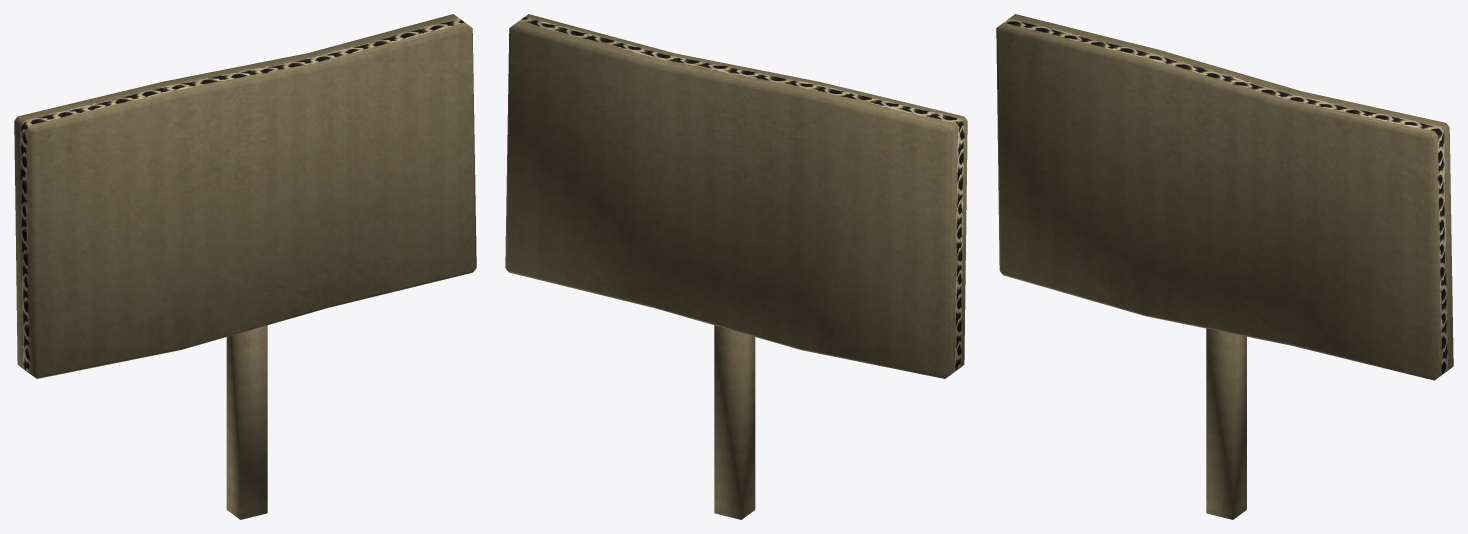
File: sign.fbx
3 views of the same model, side by side, from view 1: azimuth 30°, elevation 25°; view 2: azimuth 150°, elevation 25°; view 3: azimuth 330°, elevation 25° (orthographic).
Visible parts, largest first — view 1: SignBase; view 2: SignBase; view 3: SignBase.
Part boxes in pixels (<box>): SignBase: <box>14,14,476,519</box>; SignBase: <box>505,14,967,519</box>; SignBase: <box>996,14,1453,519</box>.
Size of the model in its own units: 11.8 by 11.19 by 0.9074.
